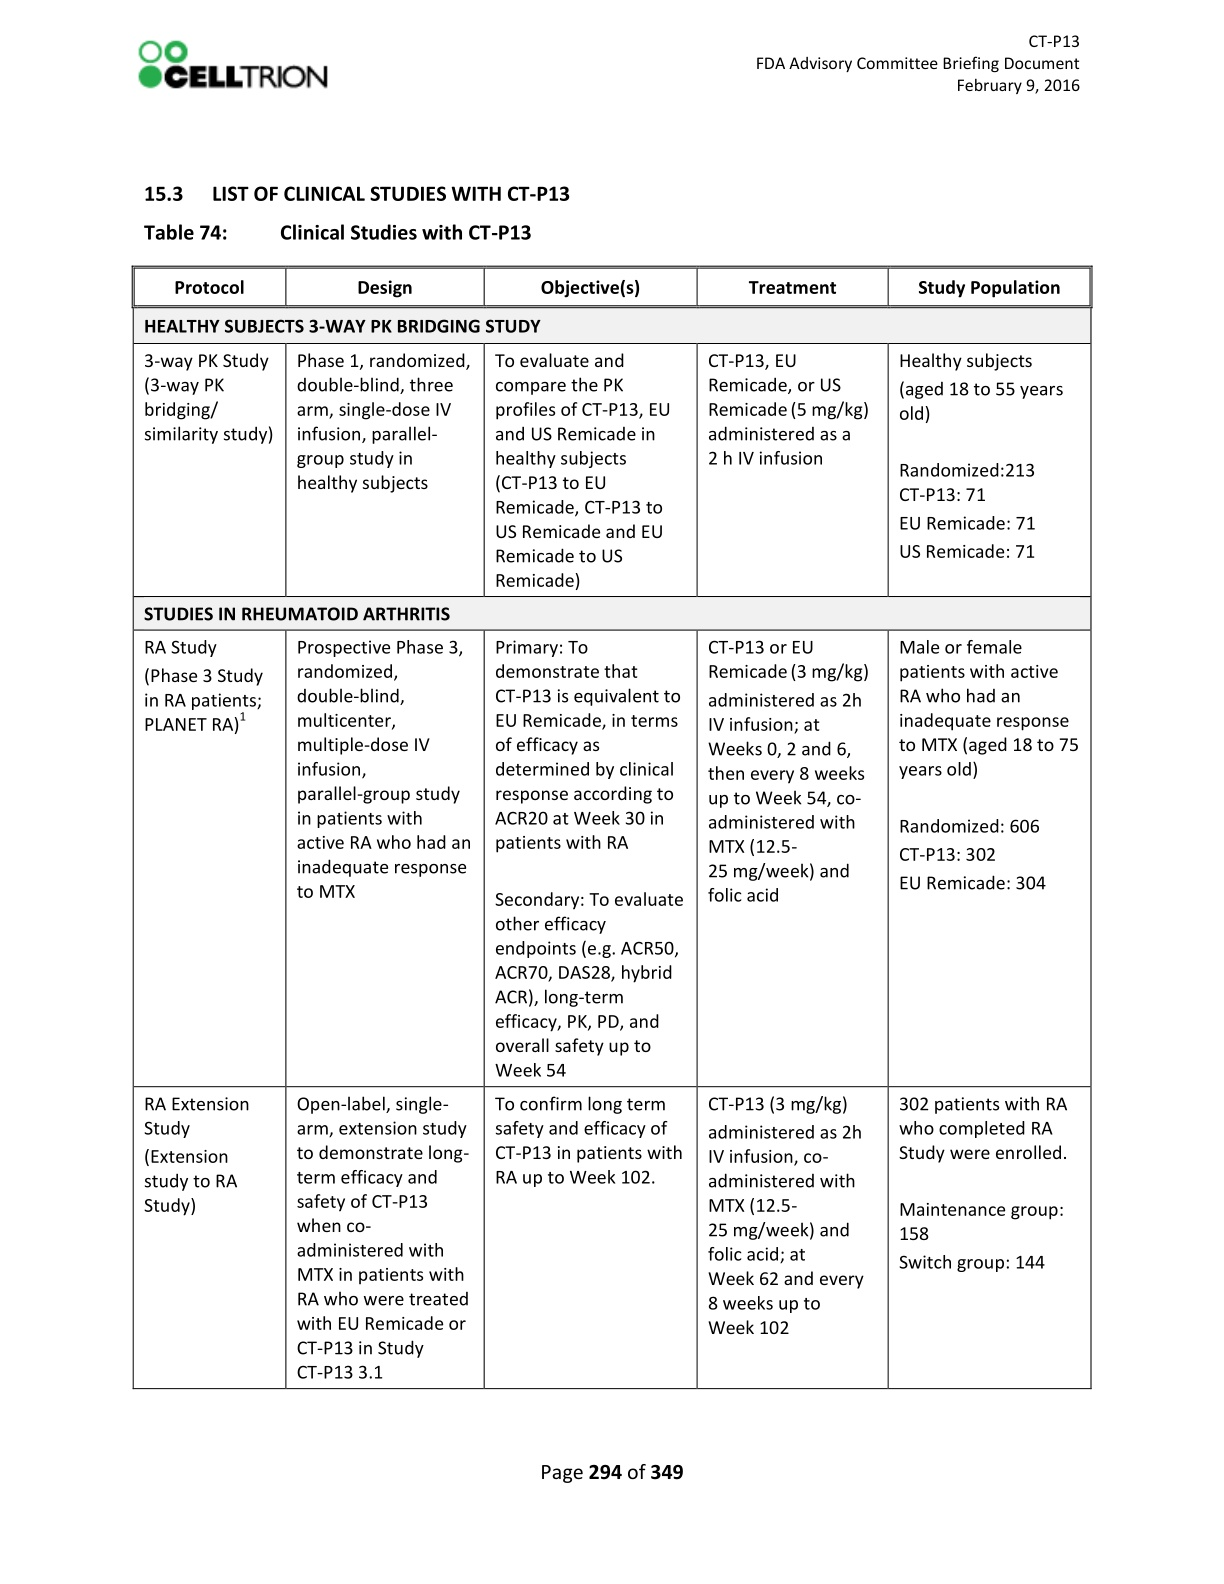merged_cells: (130, 264, 1093, 1390)
